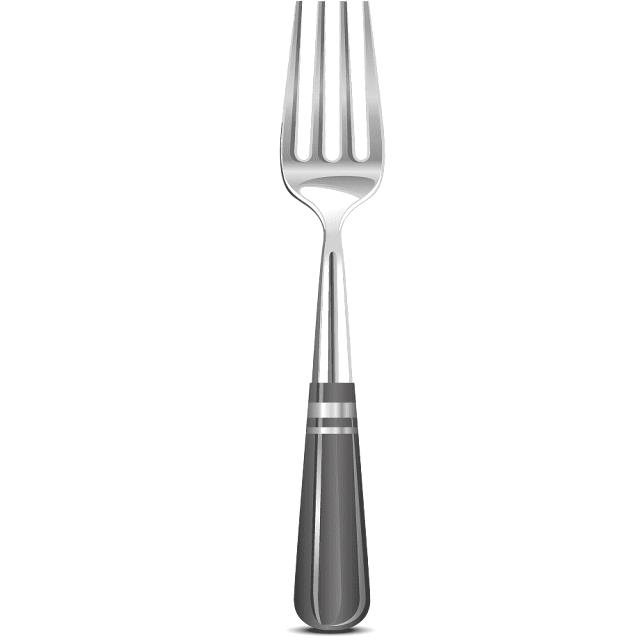Garpu: (255, 0, 413, 639)
